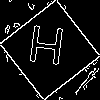H: (25, 25, 66, 75)
